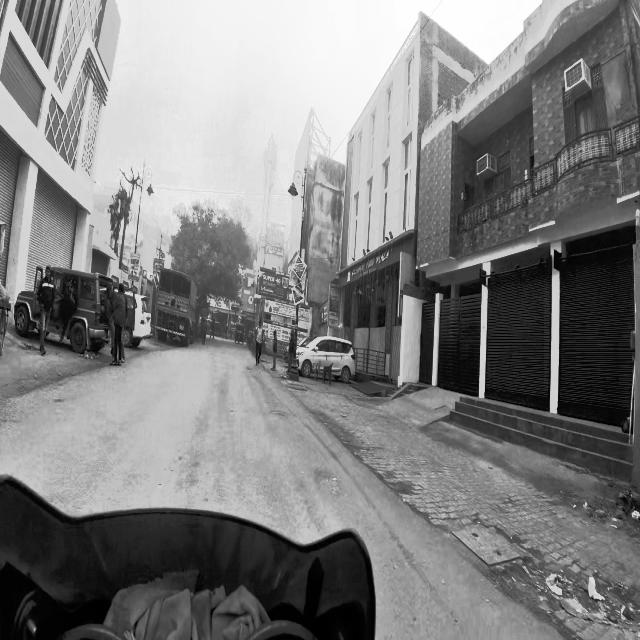Car: (17, 263, 120, 362), (293, 340, 362, 380)
HCV: (157, 266, 198, 348)
